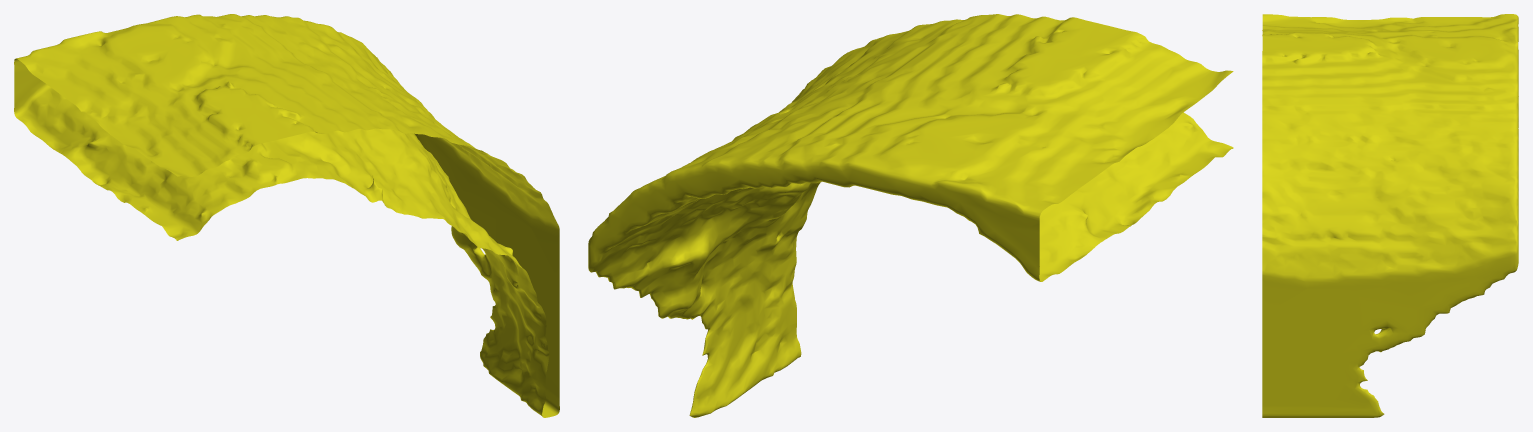
The model's file is Subcutaneous4.obj.
The picture shows the model from 3 angles, left to right: view 1: azimuth 30°, elevation 25°; view 2: azimuth 150°, elevation 25°; view 3: azimuth 270°, elevation 25°; orthographic projection. The views are drawn at different scales.
Visible parts, largest first — view 1: subcutaneous_fat4; view 2: subcutaneous_fat4; view 3: subcutaneous_fat4.
Part boxes in pixels (x1,y1,x2,y2): subcutaneous_fat4: (14, 14, 559, 417); subcutaneous_fat4: (588, 14, 1233, 417); subcutaneous_fat4: (1262, 14, 1518, 417).
Size of the model in its own units: 0.1522 by 0.131 by 0.113.
